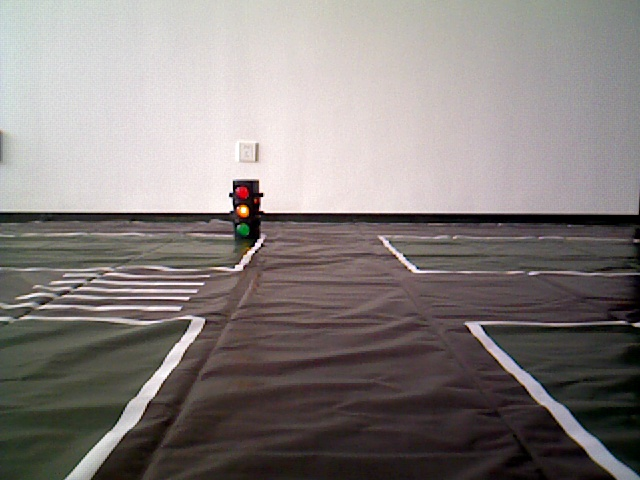yellow: (232, 178, 257, 241)
